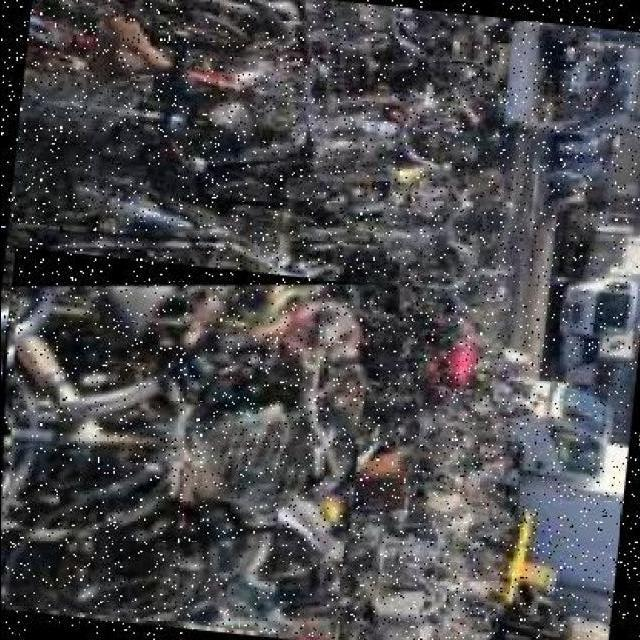bicycle: (2, 247, 373, 639)
